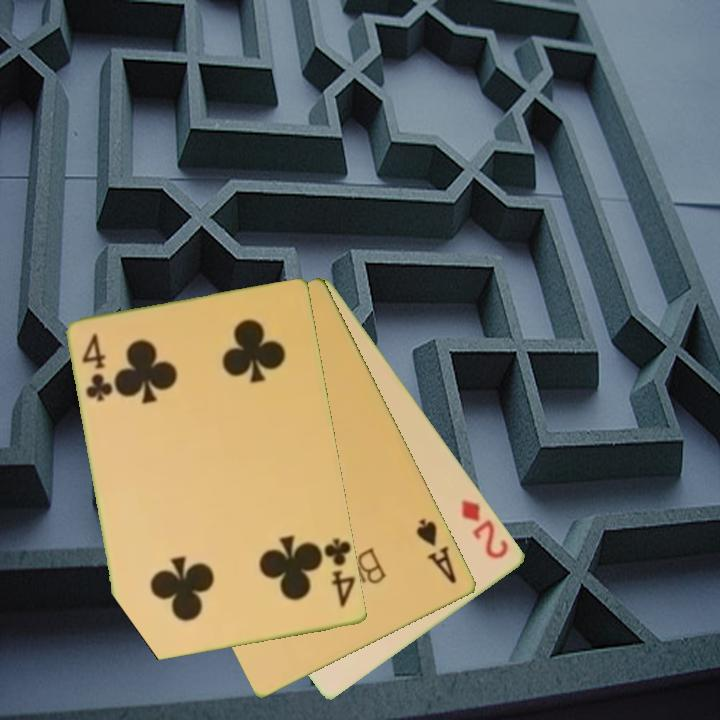2d: (458, 496, 512, 562)
4c: (321, 534, 358, 611), (79, 330, 115, 405)
As: (413, 515, 460, 587)
